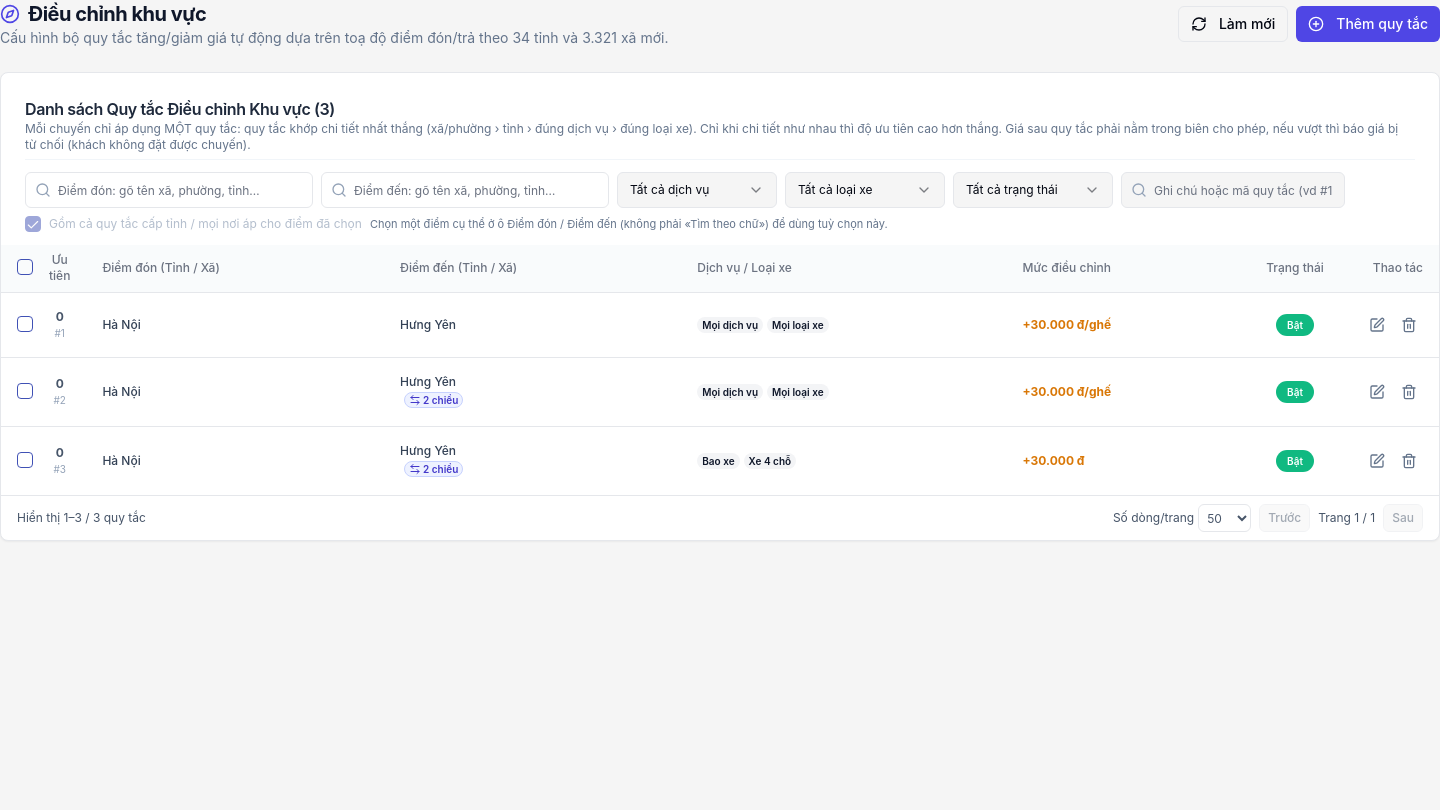
Test: PricingMacroManager — danh sách › xoá hàng loạt: xác nhận → gọi API đúng id, báo kết quả, nạp lại và bỏ vùng chọn
expect the row with test id "rule-row-1" is shown: met, box top-left (1, 292), bottom-right (1439, 358)
Click the checkbox named "Chọn quy tắc #1 Hà Nội → Hưng Yên" at (25, 324), box top-left (17, 316), bottom-right (33, 332)
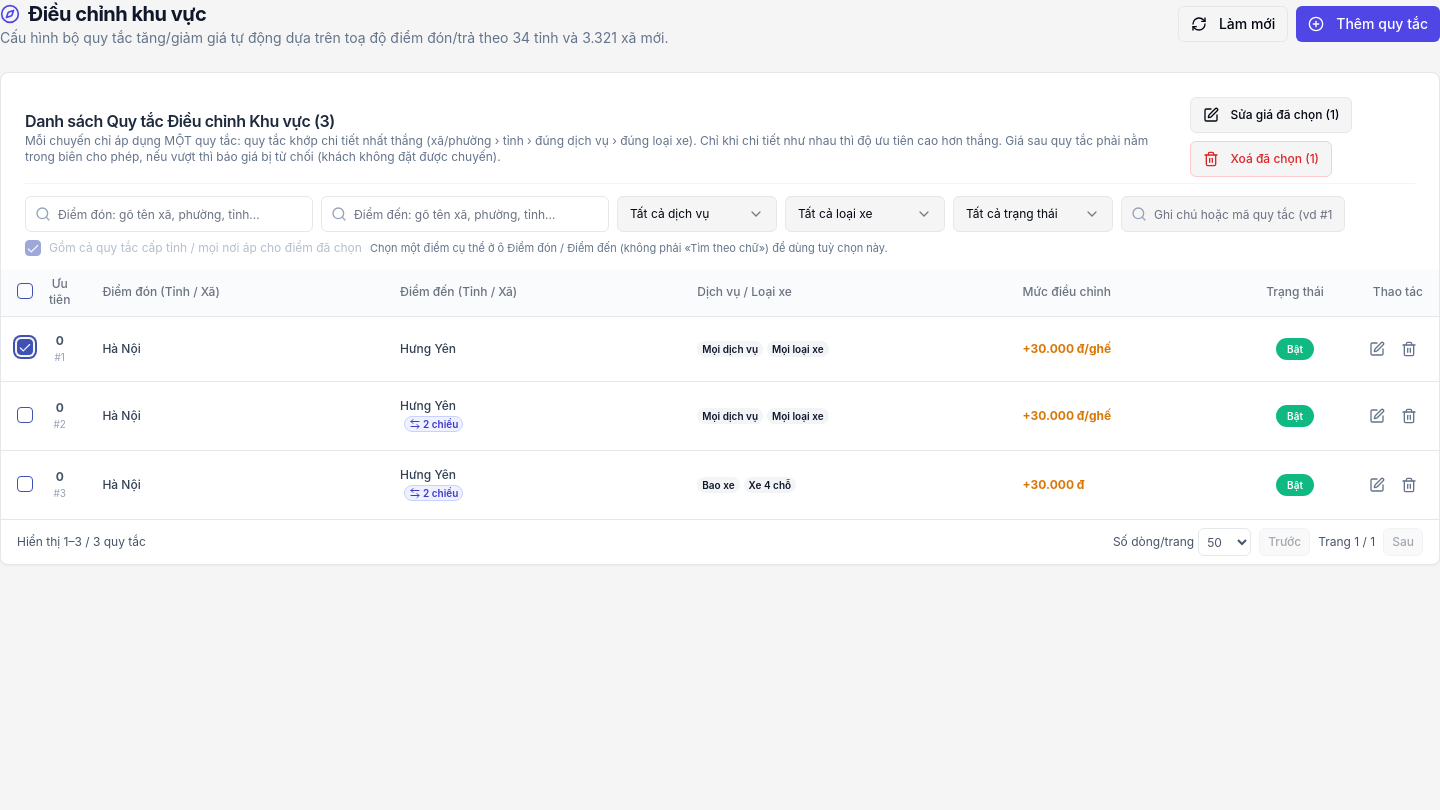
Click the checkbox named "Chọn quy tắc #3 Hà Nội ↔ Hưng Yên" at (25, 484), box top-left (17, 476), bottom-right (33, 492)
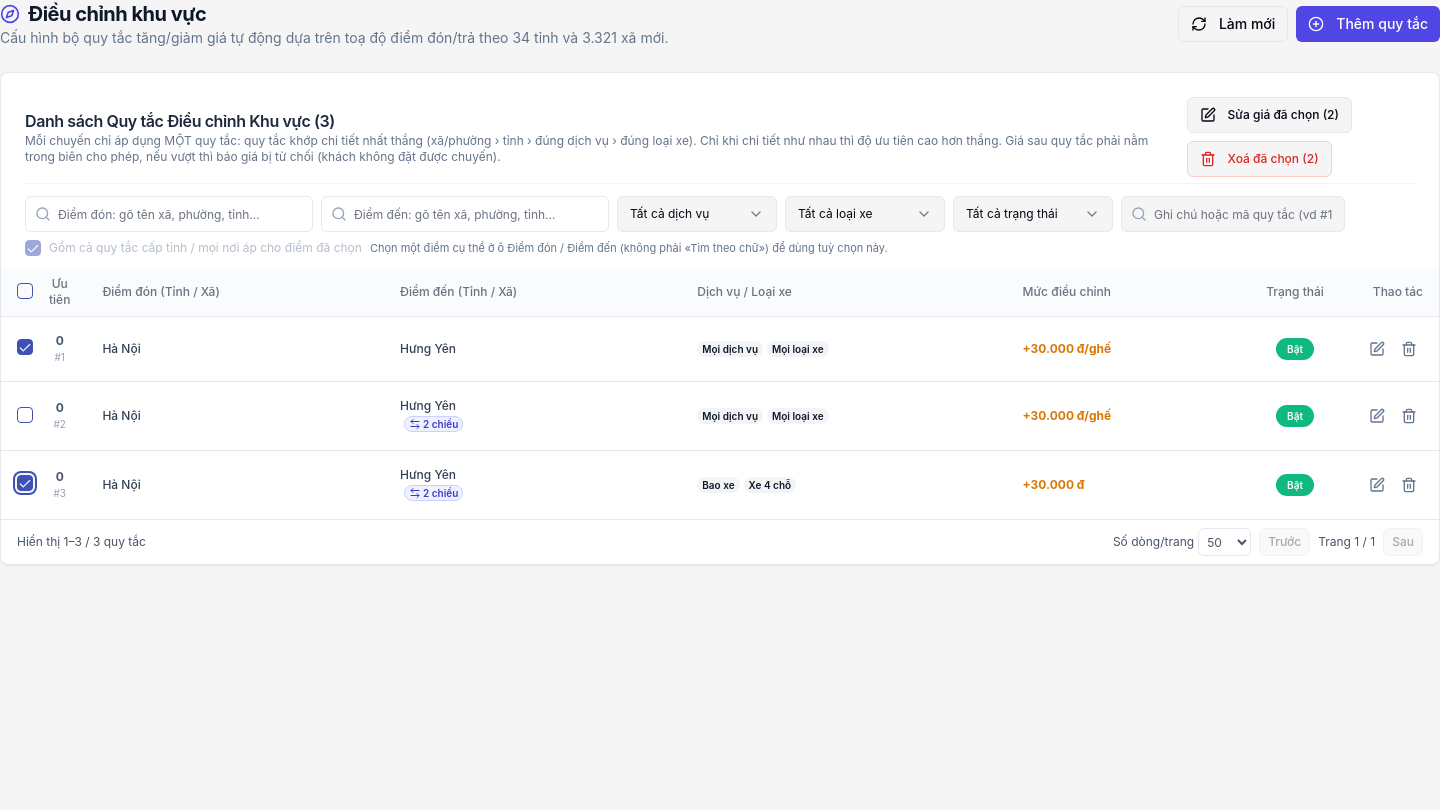
Click the button "Xoá đã chọn (2)" at (1259, 159), box top-left (1187, 141), bottom-right (1332, 177)
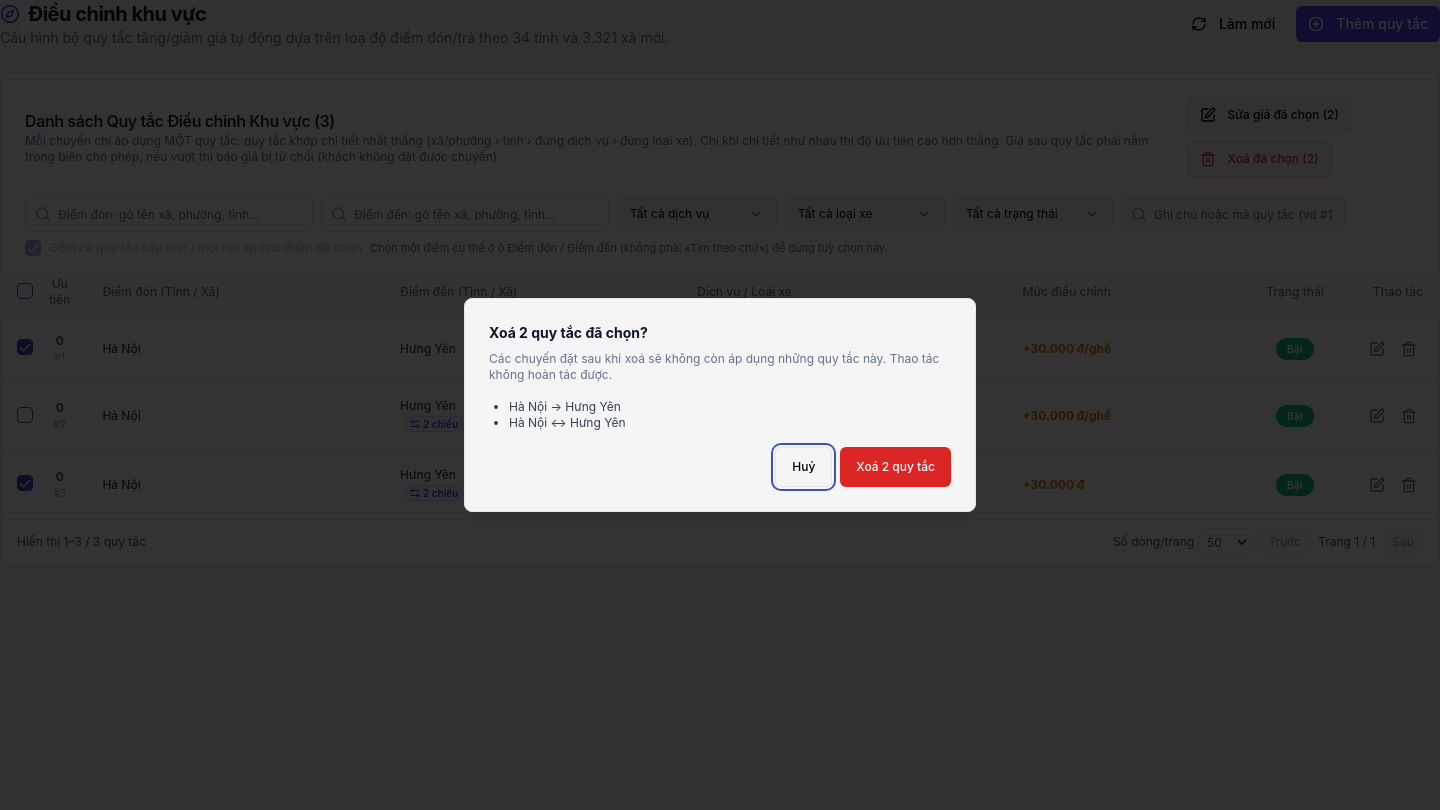
Click the button "Xoá 2 quy tắc" at (896, 467), box top-left (840, 447), bottom-right (951, 487)
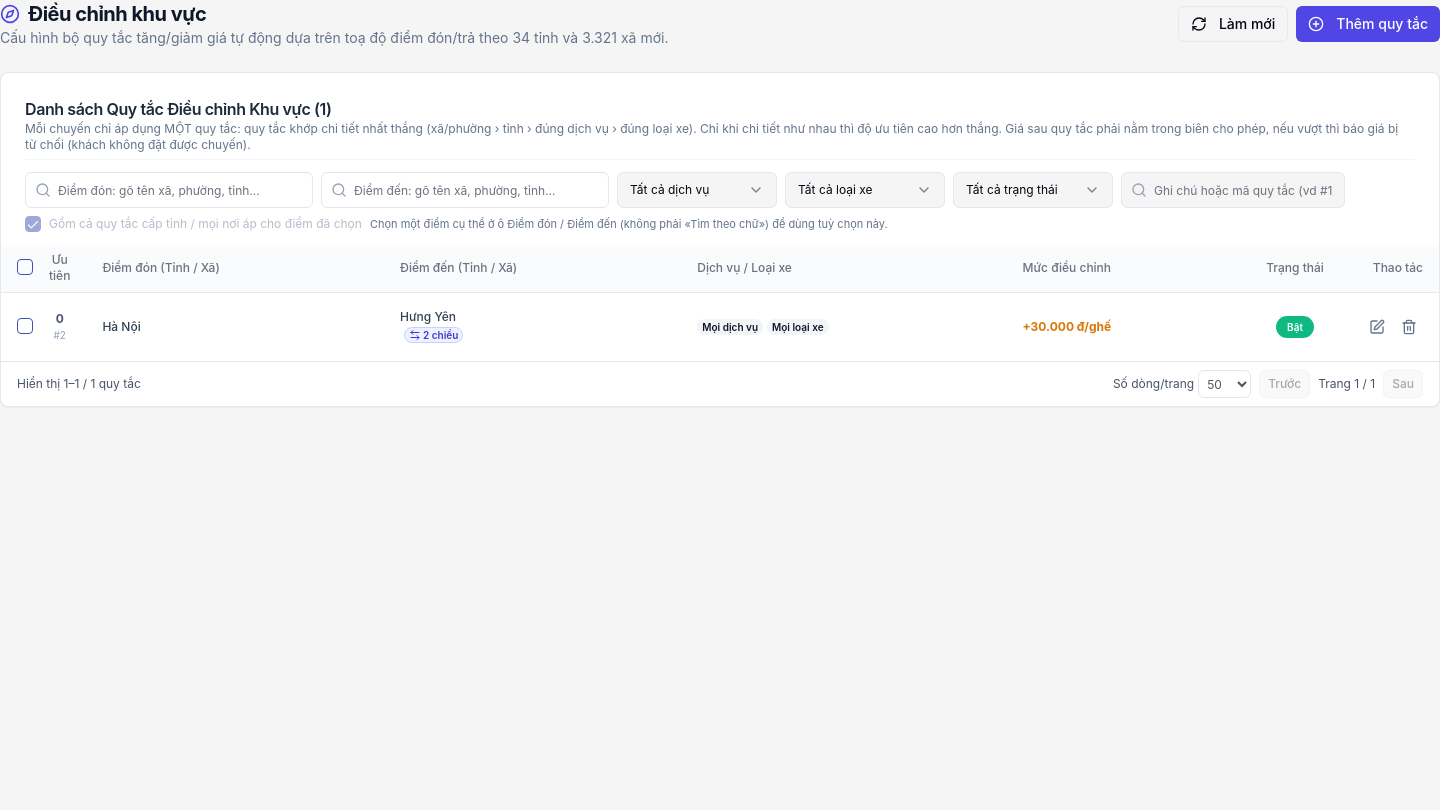
expect the row with test id "rule-row-1" is gone: met
expect the button "Xoá đã chọn" is gone: met
